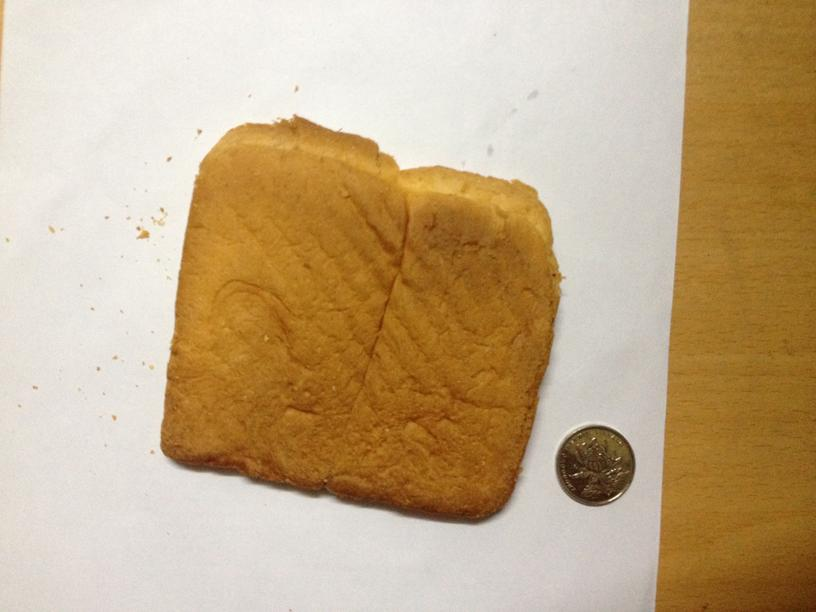bread: (164, 118, 554, 523)
coin: (554, 423, 637, 506)
